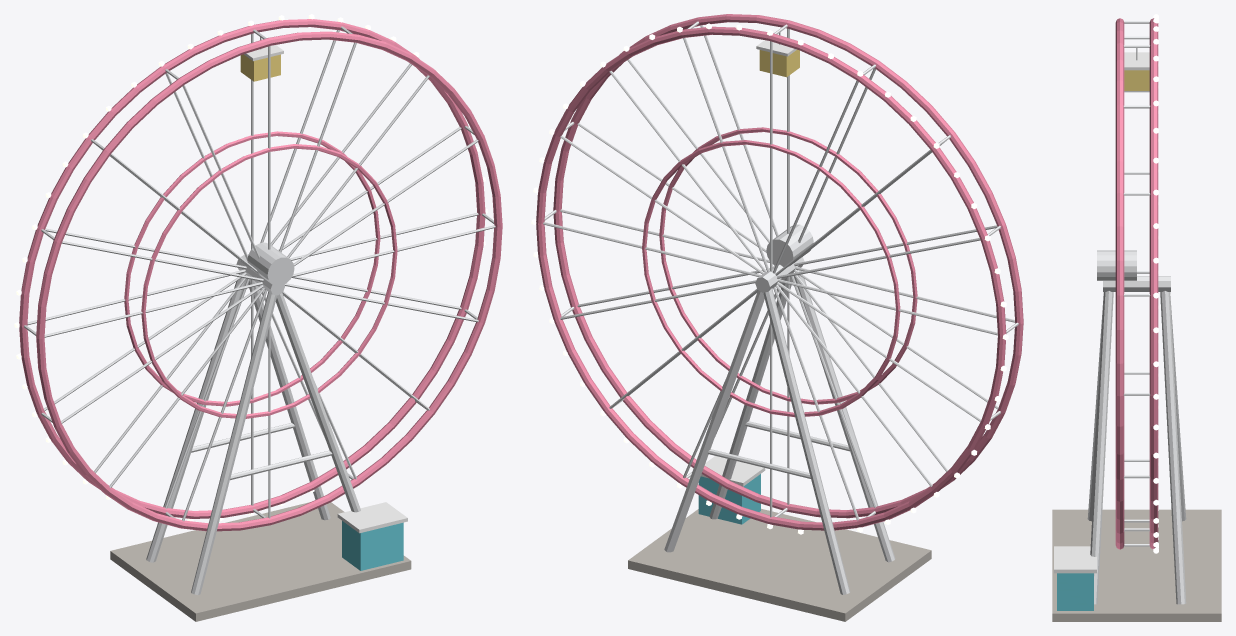
The model's file is ferriswheel.glb.
3 views of the same model, side by side, from view 1: azimuth 30°, elevation 25°; view 2: azimuth 150°, elevation 25°; view 3: azimuth 270°, elevation 25° (orthographic).
Visible parts, largest first — view 1: Cube, Torus, Torus.002, Torus.001, Torus.003, Cylinder, Cube.001, Cylinder.001, Cylinder.003, Cylinder.004, Cylinder.055, Cube.002 (+17 smaller); view 2: Cube, Torus.002, Torus, Torus.003, Torus.001, Cylinder.003, Cylinder.004, Cylinder, Cylinder.001, Cube.001, Cylinder.055, Cube.002 (+21 smaller); view 3: Cube, Torus, Torus.002, Cylinder.004, Cylinder.001, Cube.001, Cube.002, Cylinder.055, Cylinder.006, Cylinder, Cylinder.003, Cube.003 (+1 smaller).
Boxes of the visible parts, x1,y1,x2,y2 form: Cube: [110, 502, 411, 621]; Torus: [36, 31, 502, 531]; Torus.002: [19, 19, 485, 518]; Torus.001: [141, 144, 397, 418]; Torus.003: [124, 131, 380, 406]; Cylinder: [191, 291, 276, 595]; Cube.001: [342, 521, 403, 570]; Cylinder.001: [275, 293, 360, 512]; Cylinder.003: [146, 273, 246, 562]; Cylinder.004: [248, 279, 330, 520]; Cylinder.055: [247, 242, 294, 285]; Cube.002: [337, 502, 407, 533]; Cube: [628, 508, 931, 621]; Torus.002: [536, 26, 1006, 530]; Torus: [553, 14, 1023, 518]; Torus.003: [642, 140, 900, 417]; Torus.001: [659, 127, 917, 404]; Cylinder.003: [763, 288, 850, 594]; Cylinder.004: [664, 290, 764, 552]; Cylinder: [793, 270, 895, 562]; Cylinder.001: [709, 276, 792, 519]; Cube.001: [698, 474, 760, 524]; Cylinder.055: [766, 224, 813, 266]; Cube.002: [701, 456, 765, 486]; Cube: [1052, 509, 1221, 621]; Torus: [1115, 18, 1124, 549]; Torus.002: [1149, 18, 1158, 548]; Cylinder.004: [1160, 291, 1186, 604]; Cylinder.001: [1090, 291, 1113, 604]; Cube.001: [1057, 573, 1093, 610]; Cube.002: [1054, 546, 1096, 573]; Cylinder.055: [1097, 250, 1136, 280]; Cylinder.006: [1103, 276, 1170, 291]; Cylinder: [1087, 292, 1103, 521]; Cylinder.003: [1170, 292, 1186, 521]; Cube.003: [1124, 70, 1149, 90].
Size of the model in its own units: 35.09 by 38.07 by 11.
